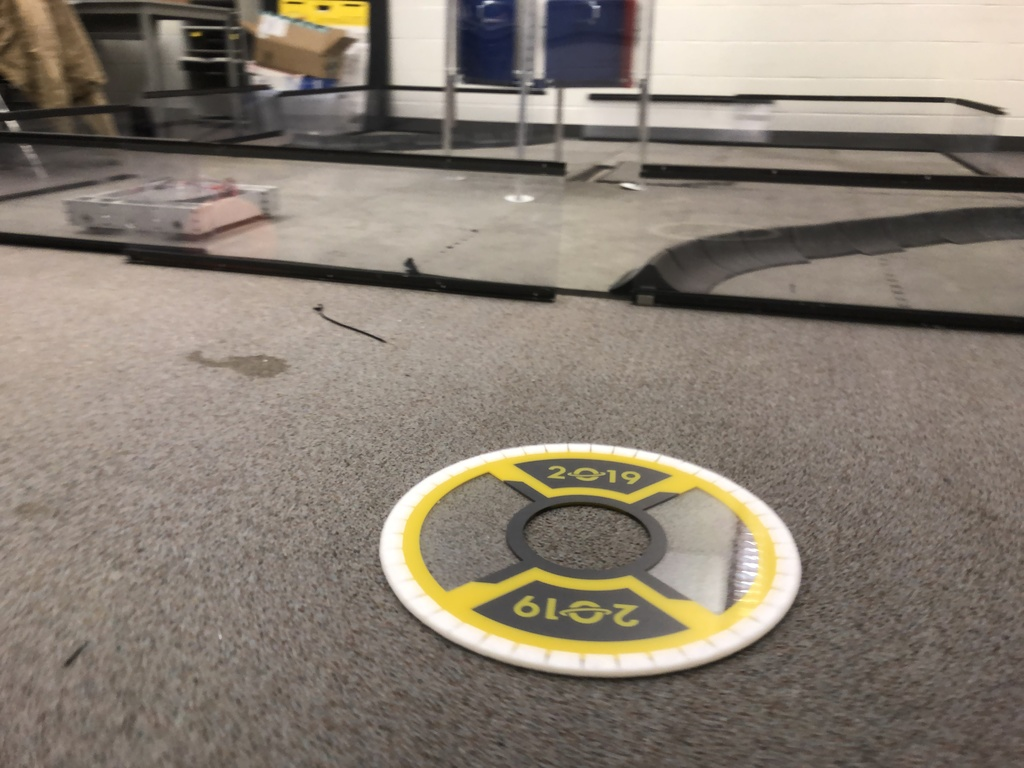hatch_panel: (375, 430, 797, 671)
